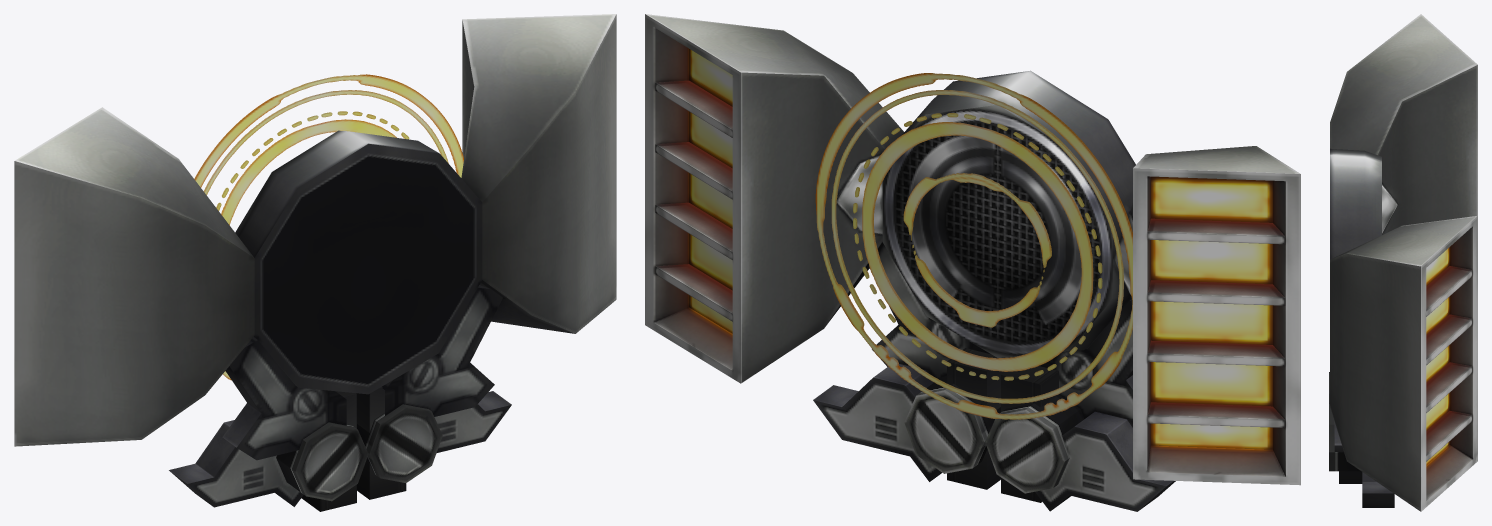
3 views of the same model, side by side, from view 1: azimuth 30°, elevation 25°; view 2: azimuth 150°, elevation 25°; view 3: azimuth 270°, elevation 25° (orthographic). The views are drawn at different scales.
Visible parts, largest first — view 1: 3_Z_43; view 2: 3_Z_43; view 3: 3_Z_43.
Part boxes in pixels (left/top/right/bottom): 3_Z_43: left=14, top=14, right=616, bottom=511; 3_Z_43: left=645, top=14, right=1300, bottom=511; 3_Z_43: left=1329, top=14, right=1477, bottom=511.
Size of the model in its own units: 162 by 40.48 by 104.
